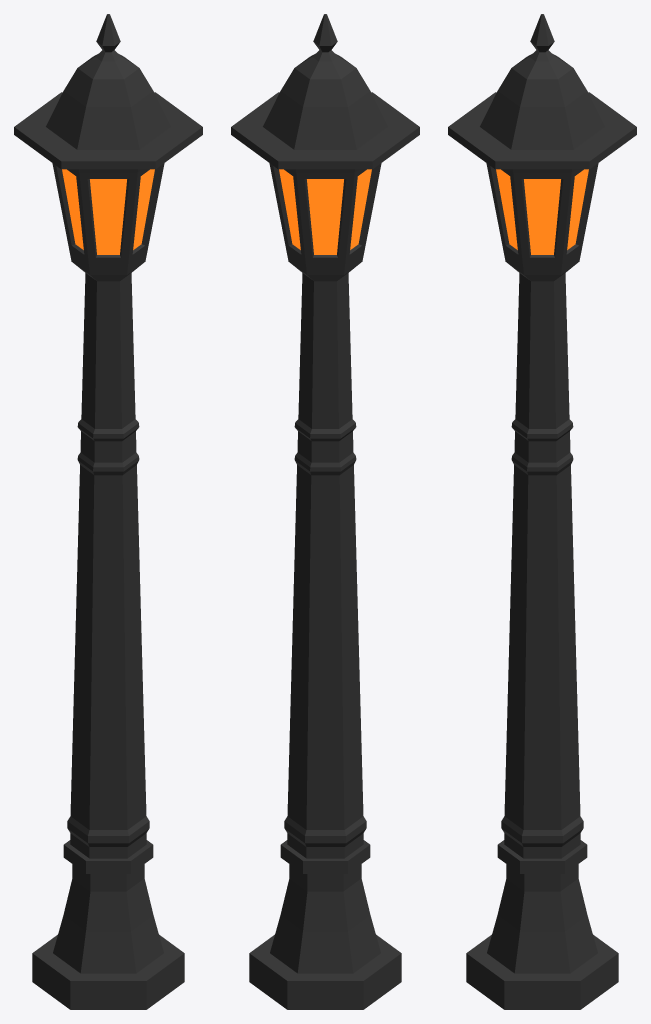
File: LampPost.fbx
The picture shows the model from 3 angles, left to right: view 1: azimuth 30°, elevation 25°; view 2: azimuth 150°, elevation 25°; view 3: azimuth 270°, elevation 25°; orthographic projection.
Visible parts, largest first — view 1: Cylinder; view 2: Cylinder; view 3: Cylinder.
Part boxes in pixels (x1,y1,x2,y2): Cylinder: (14,14,202,1009); Cylinder: (231,14,419,1009); Cylinder: (448,14,636,1009).
Bounding box in the file's own units: 215 × 1402 × 248.
